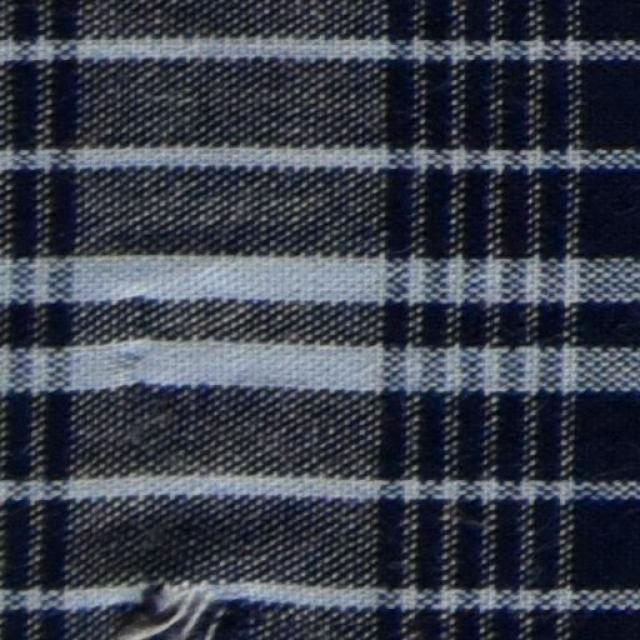Snag: (114, 562, 261, 637)
